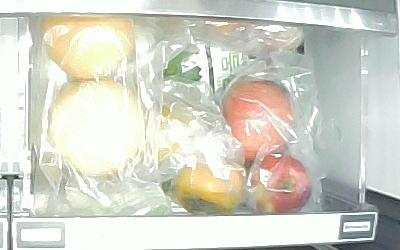apple_vinyl: (218, 78, 300, 163), (245, 153, 313, 215)
grapefruit_vinyl: (48, 80, 147, 177), (39, 15, 135, 79)
persimmon_vinyl: (172, 157, 246, 215)
